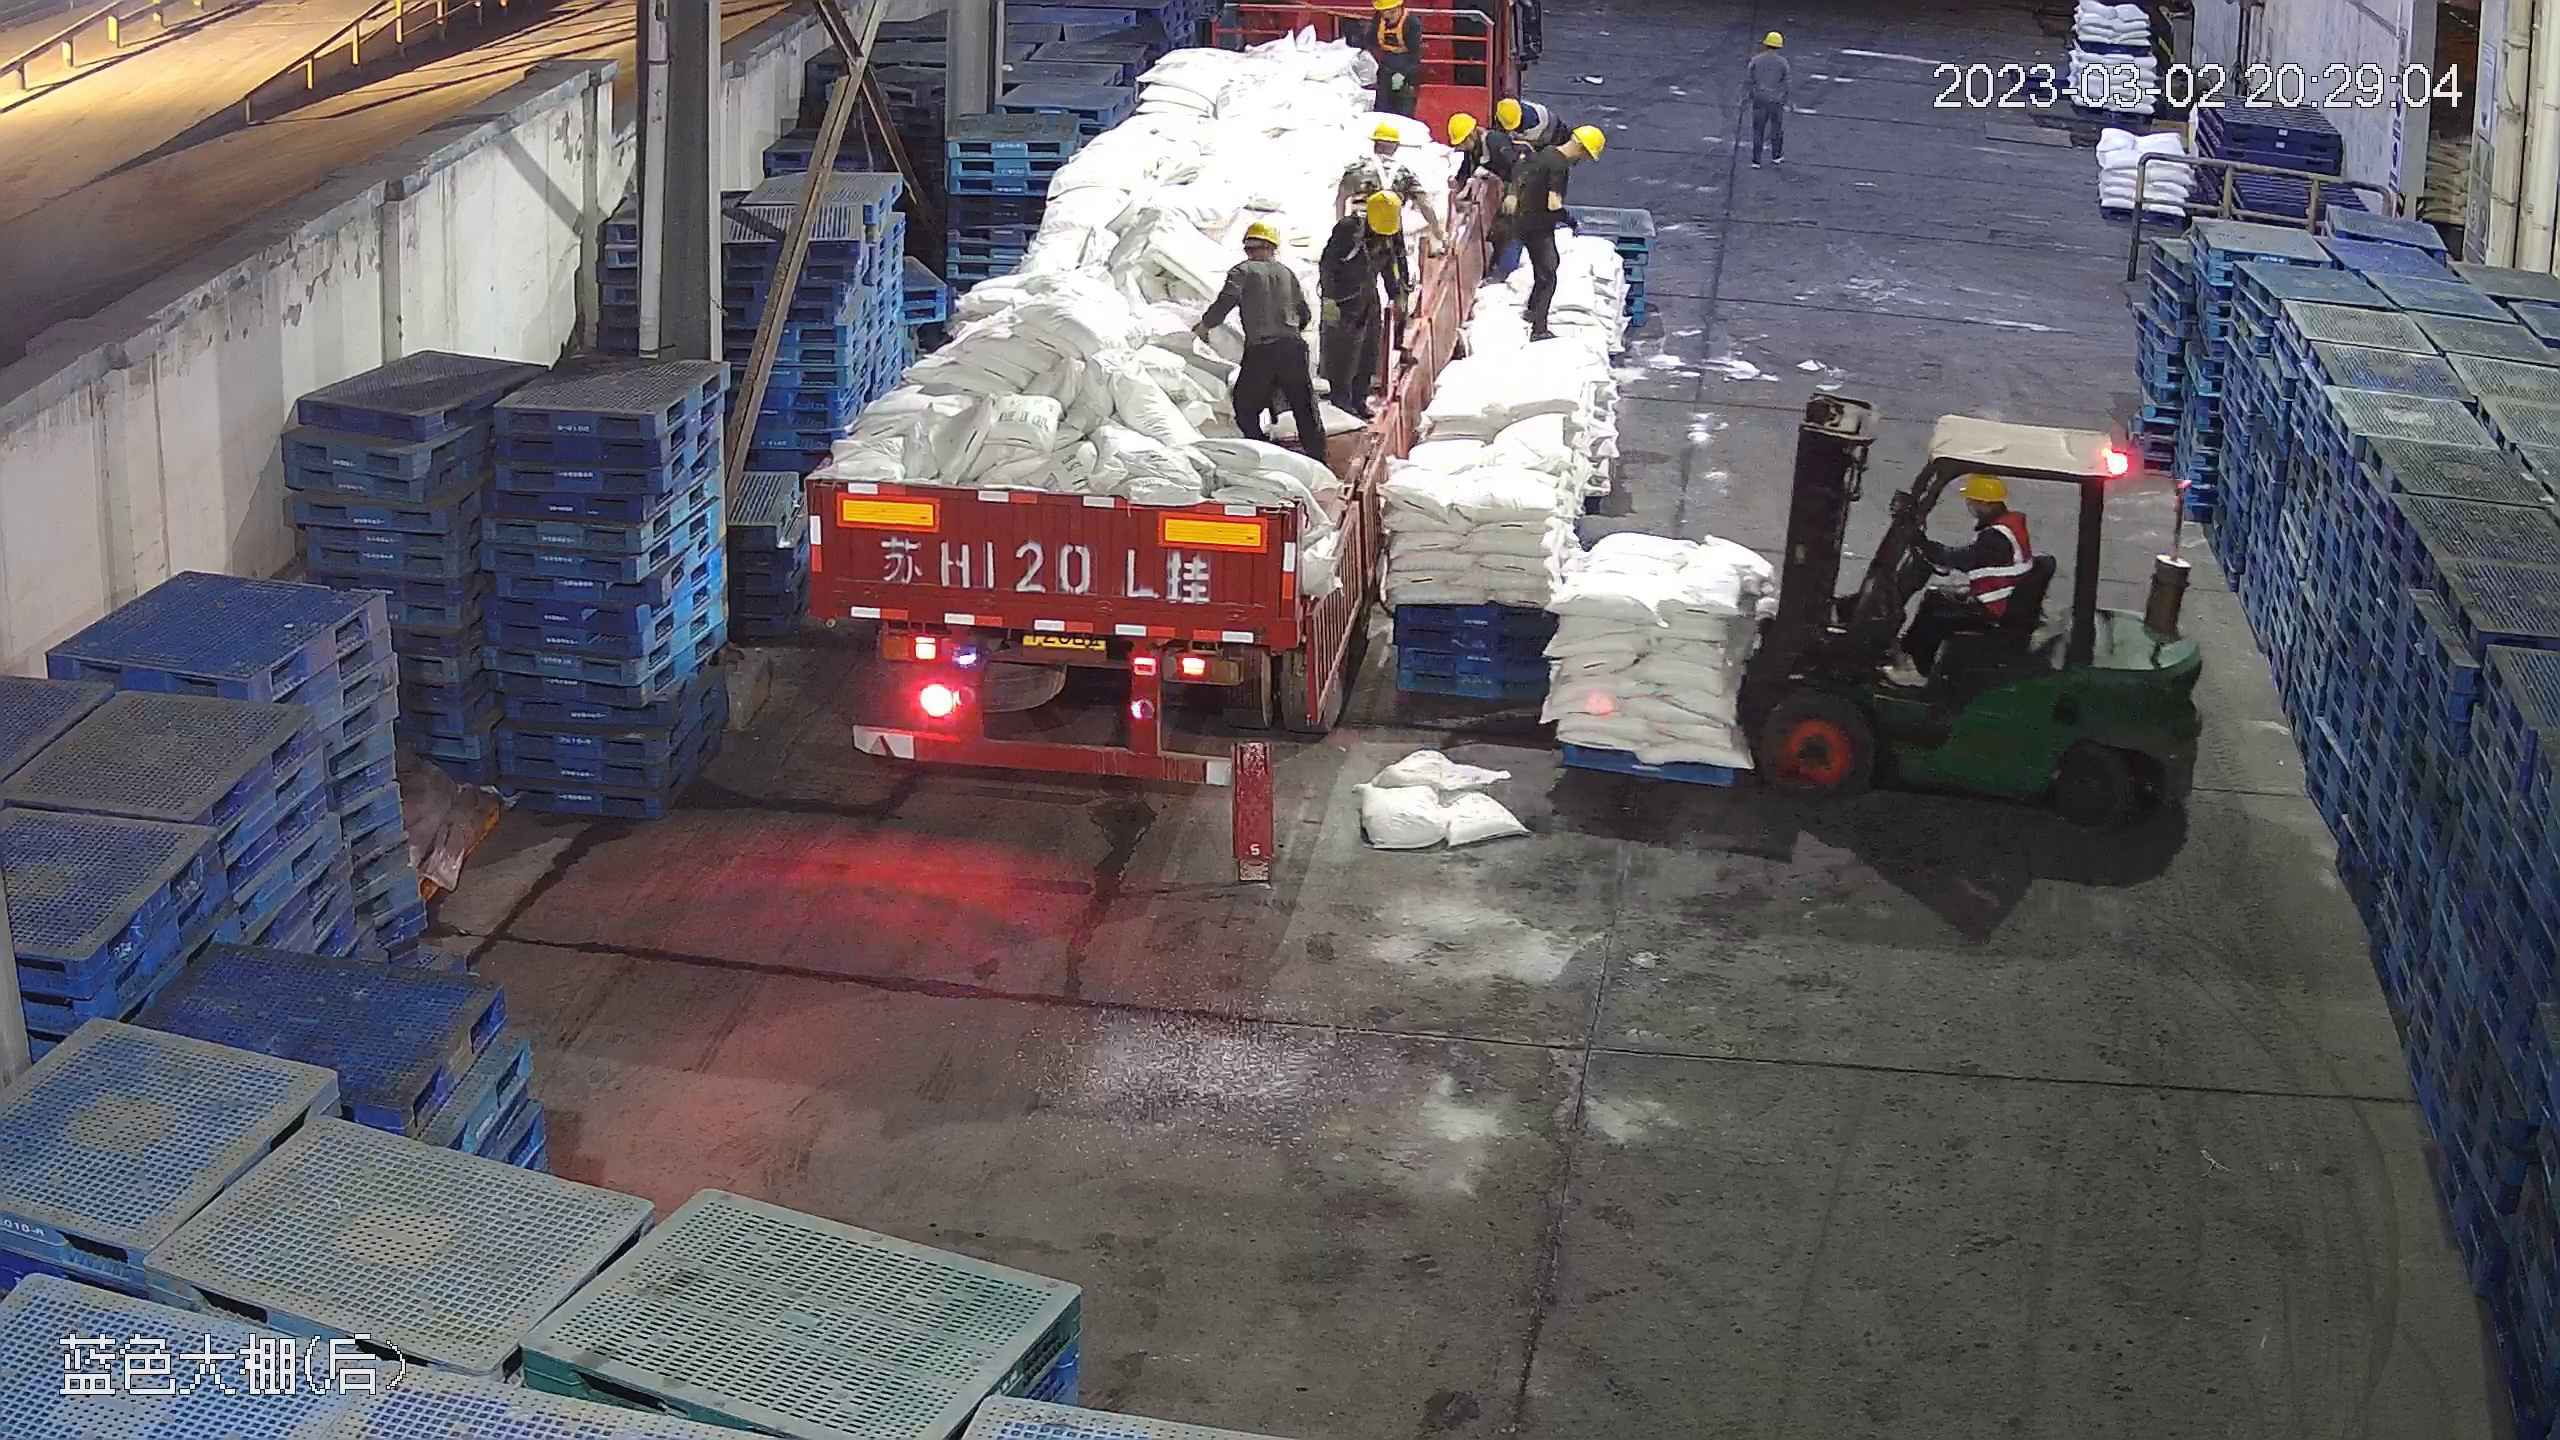belt: (1237, 255, 1304, 329), (1336, 216, 1400, 276), (1377, 10, 1411, 59), (1368, 149, 1402, 193), (1467, 125, 1493, 167)
head: (1217, 219, 1304, 303), (1327, 185, 1410, 270), (1949, 469, 2028, 560), (1344, 116, 1419, 192), (1441, 108, 1518, 175), (1533, 120, 1600, 195), (1365, 1, 1418, 44), (1748, 31, 1791, 77)
helmet: (1363, 188, 1404, 234), (1959, 471, 2008, 501), (1239, 218, 1280, 248), (1448, 109, 1480, 144), (1494, 99, 1526, 133), (1572, 126, 1603, 157), (1369, 122, 1404, 145), (1758, 29, 1782, 49), (1370, 1, 1402, 11)
people: (1882, 467, 2034, 685), (1191, 212, 1326, 456), (1317, 184, 1413, 424), (1506, 114, 1595, 340), (1740, 29, 1795, 168), (1359, 1, 1425, 113)
truck: (797, 20, 1412, 774)
